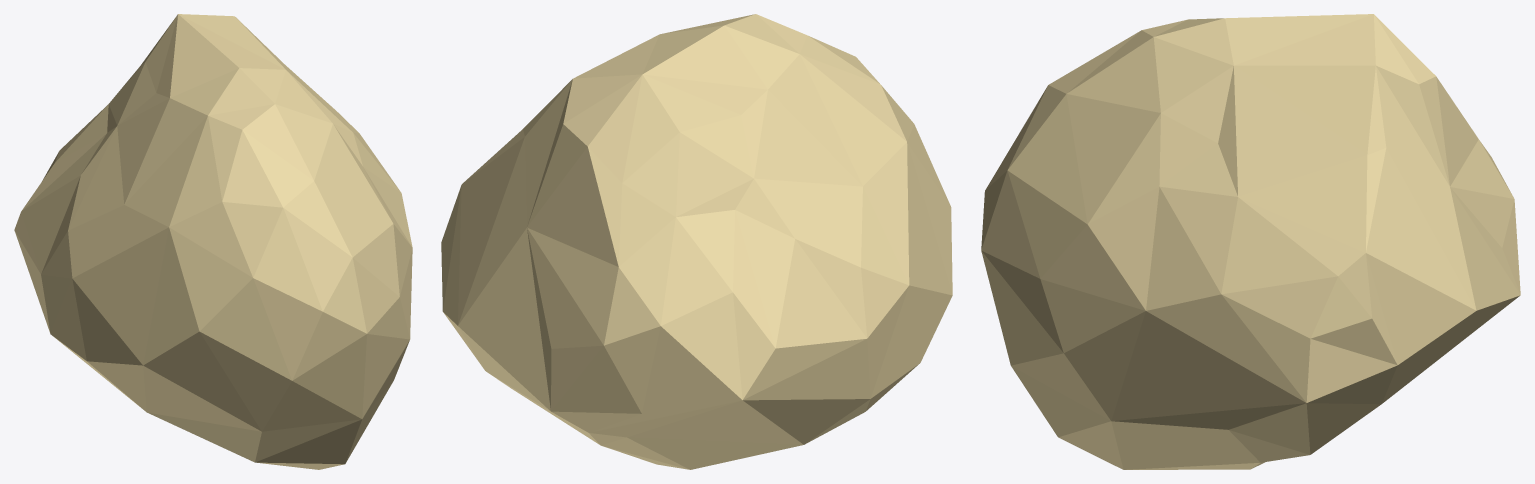
File: Rock (87).fbx
3 renders of one model, left to right at view 1: azimuth 30°, elevation 25°; view 2: azimuth 150°, elevation 25°; view 3: azimuth 270°, elevation 25°, orthographic. The views are drawn at different scales.
Visible parts, largest first — view 1: Asteroid86; view 2: Asteroid86; view 3: Asteroid86.
Part boxes in pixels (box(x1,y1,x2,y2)): Asteroid86: box(14, 14, 412, 469); Asteroid86: box(441, 14, 952, 469); Asteroid86: box(981, 14, 1520, 469).
Bounding box in the file's own units: 59.39 × 60.89 × 67.91.
